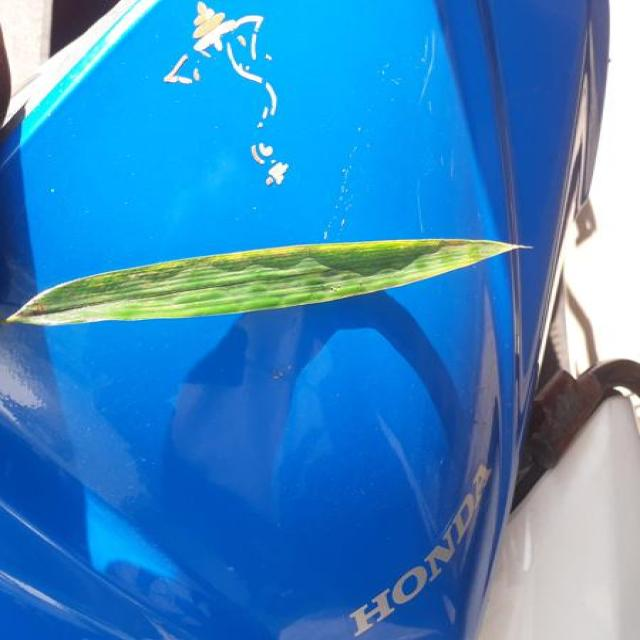Bamboo: (0, 219, 514, 321)
